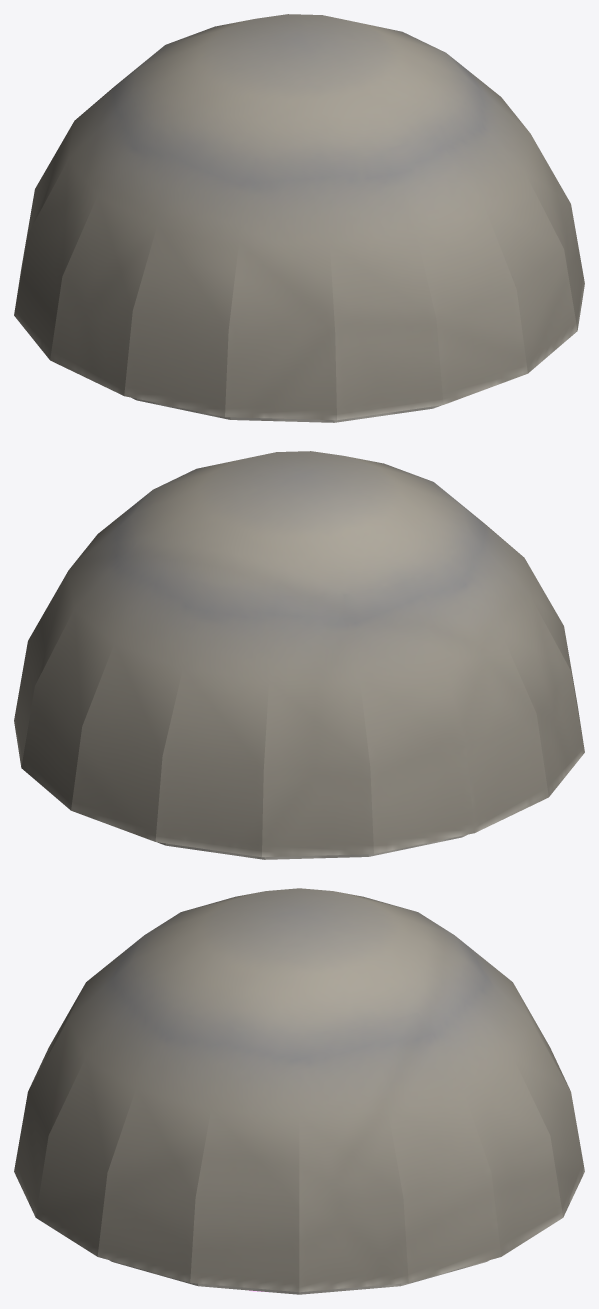
File: geode_open.glb
3 renders of one model, top to bottom at view 1: azimuth 30°, elevation 25°; view 2: azimuth 150°, elevation 25°; view 3: azimuth 270°, elevation 25°, orthographic.
Visible parts, largest first — view 1: SM_GeodeOpen; view 2: SM_GeodeOpen; view 3: SM_GeodeOpen.
Boxes of the visible parts, <box> form: SM_GeodeOpen: <box>14,14,584,422</box>; SM_GeodeOpen: <box>14,451,584,859</box>; SM_GeodeOpen: <box>14,888,584,1294</box>.
Bounding box in the file's own units: 0.28 × 0.1626 × 0.28.
Materials: 2 (1 with a texture image).
